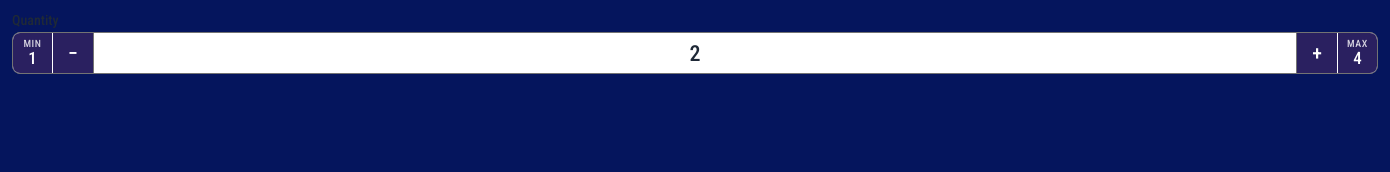
Stepper › TypedThenBlurred_TheFieldShowsTheSettledValue
Type "9" into the number field at (695, 53), box [93,33,1297,73]
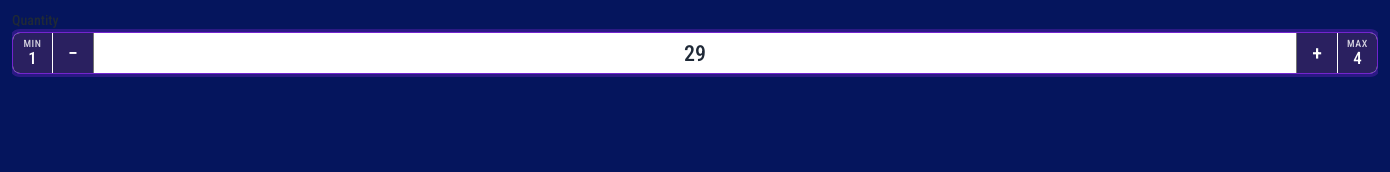
Expected: the number field holds "29", [93,33,1297,73]
Press Tab
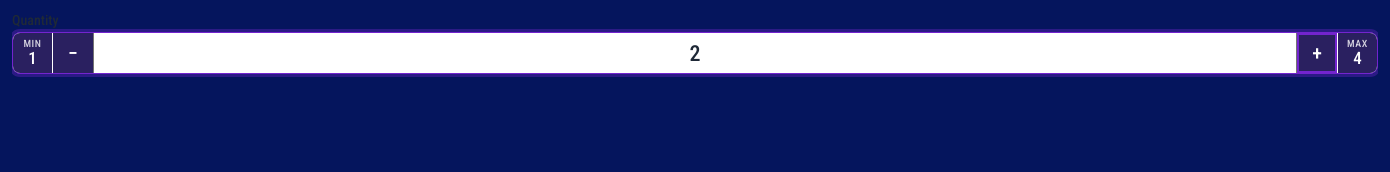
Expected: the number field holds "2", [93,33,1297,73]
